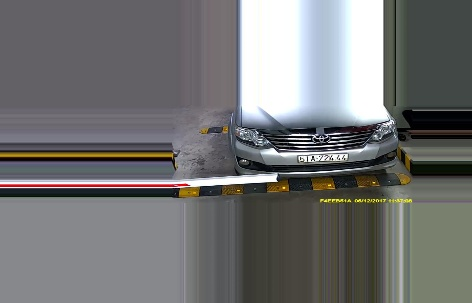plate: (297, 151, 348, 165)
